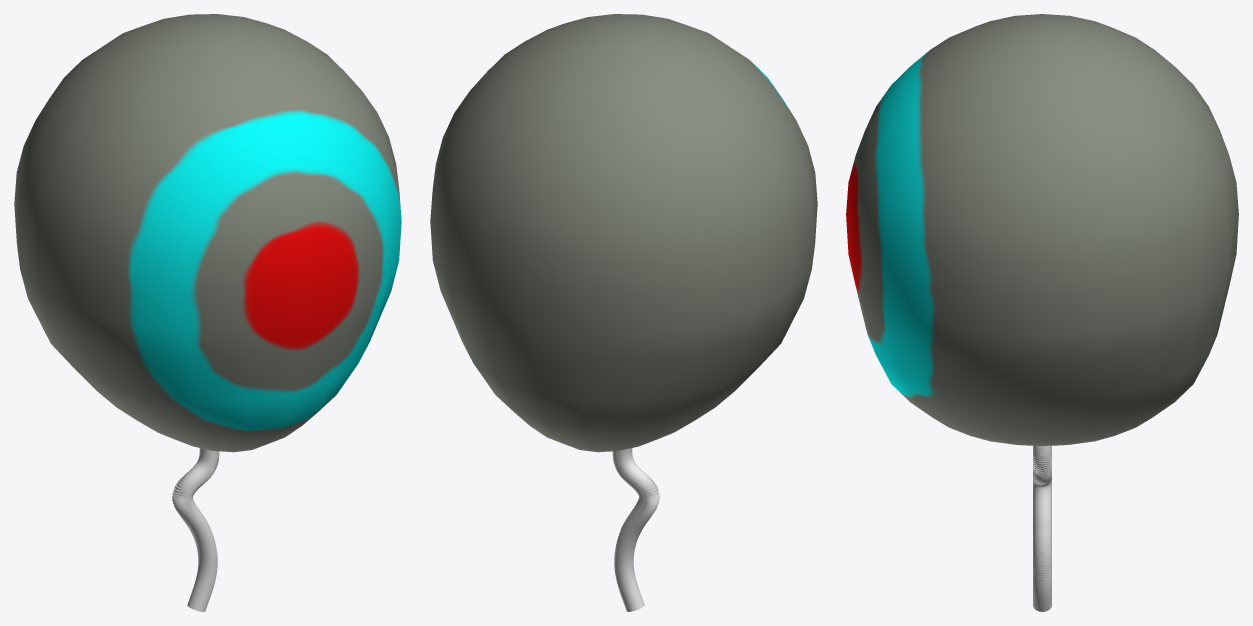
Rendered from Balloon.fbx.
The picture shows the model from 3 angles, left to right: view 1: azimuth 30°, elevation 25°; view 2: azimuth 150°, elevation 25°; view 3: azimuth 270°, elevation 25°; orthographic projection.
Visible parts, largest first — view 1: pSphere2; view 2: pSphere2; view 3: pSphere2.
Boxes of the visible parts, box(x1,y1,x2,y2) form: pSphere2: box(14, 14, 401, 611); pSphere2: box(430, 14, 817, 611); pSphere2: box(846, 14, 1238, 611).
Size of the model in its own units: 6.11 by 9.97 by 6.11.
